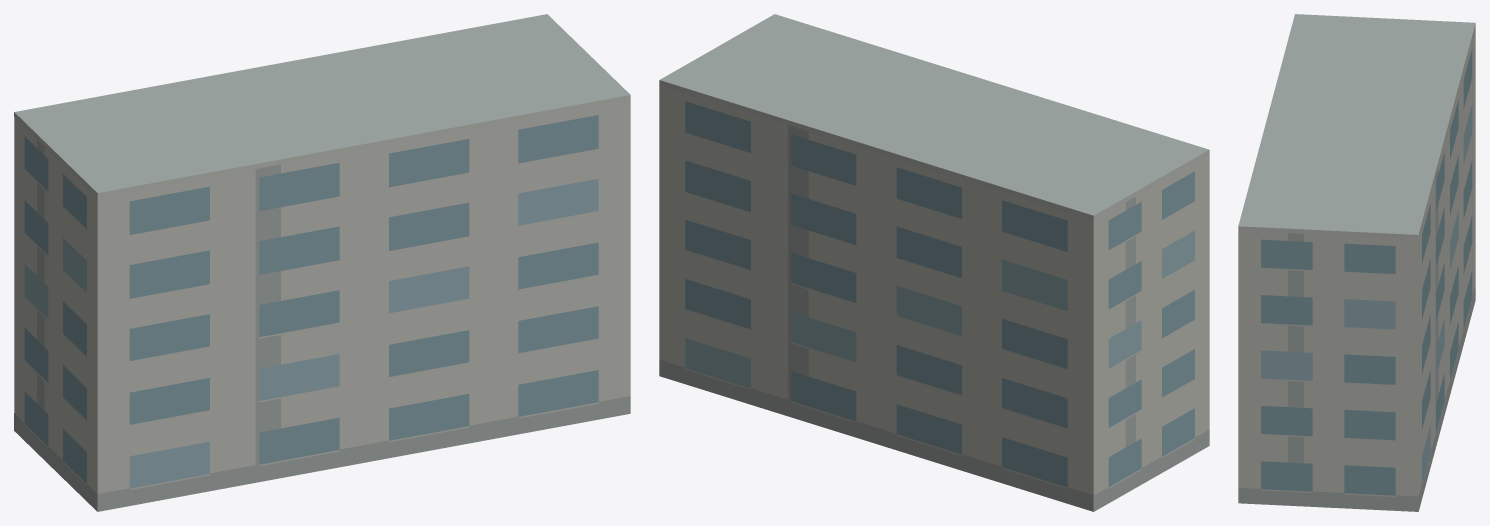
File: survey-upis-32805628.glb
3 renders of one model, left to right at view 1: azimuth 30°, elevation 25°; view 2: azimuth 150°, elevation 25°; view 3: azimuth 270°, elevation 25°, orthographic. The views are drawn at different scales.
Visible parts, largest first — view 1: survey-upis-32805628.tmp; view 2: survey-upis-32805628.tmp; view 3: survey-upis-32805628.tmp.
Boxes of the visible parts, <box> form: survey-upis-32805628.tmp: <box>14,14,630,511</box>; survey-upis-32805628.tmp: <box>659,14,1209,511</box>; survey-upis-32805628.tmp: <box>1238,14,1475,511</box>.
Size of the model in its own units: 26.18 by 15.3 by 11.9.
